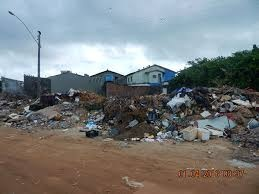rubble: (160, 84, 258, 138), (22, 90, 105, 130), (106, 94, 163, 138)
